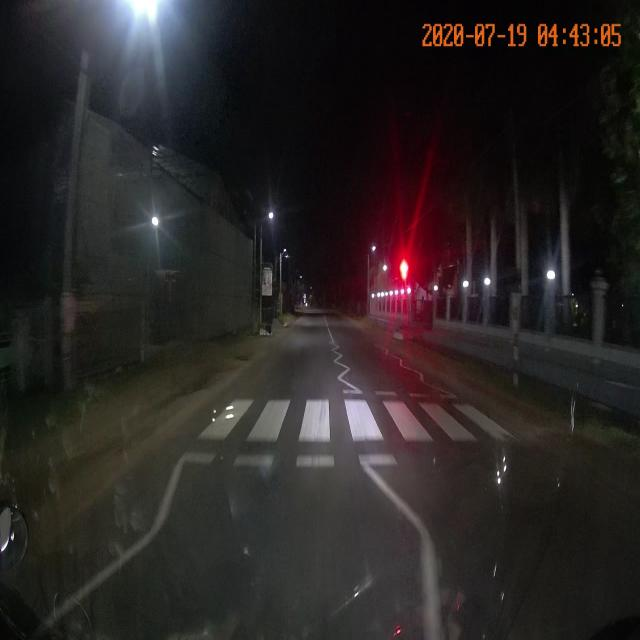Crosswalk: (163, 387, 544, 478)
